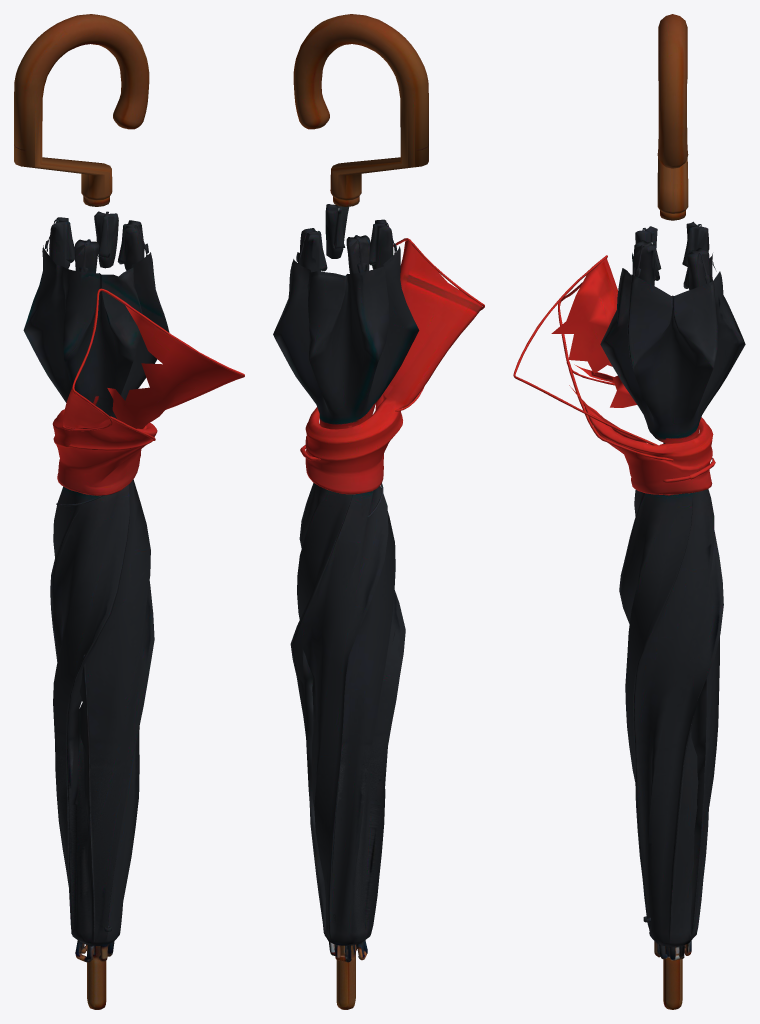
File: toonstudio_umbrella.glb
3 views of the same model, side by side, from view 1: azimuth 30°, elevation 25°; view 2: azimuth 150°, elevation 25°; view 3: azimuth 270°, elevation 25° (orthographic).
Parts seen in each view (by area): view 1: tripo_683b6d76_9a5c_47f9_95ca_177b72d8feff; view 2: tripo_683b6d76_9a5c_47f9_95ca_177b72d8feff; view 3: tripo_683b6d76_9a5c_47f9_95ca_177b72d8feff.
Boxes of the visible parts, <box> form: tripo_683b6d76_9a5c_47f9_95ca_177b72d8feff: <box>14,14,244,1009</box>; tripo_683b6d76_9a5c_47f9_95ca_177b72d8feff: <box>273,14,484,1009</box>; tripo_683b6d76_9a5c_47f9_95ca_177b72d8feff: <box>513,14,745,1009</box>.
Bounding box in the file's own units: 0.1262 × 0.805 × 0.1732.
1 material, 1 textured.
